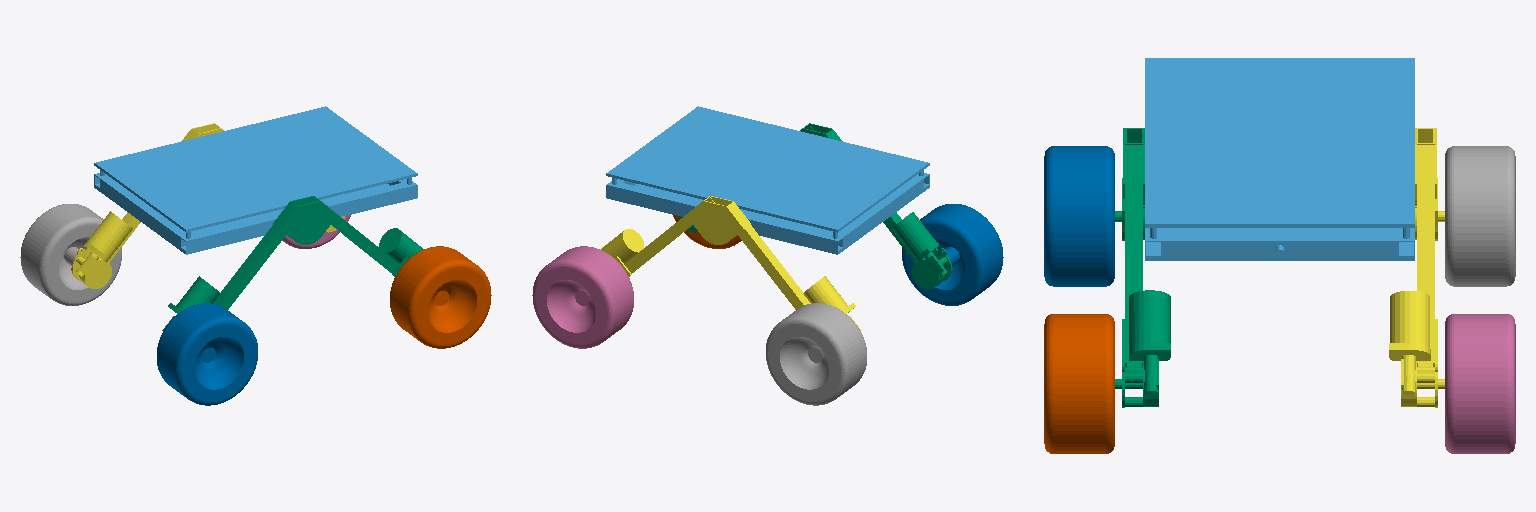
The robot description file, URDF, robot "terryjr":
<?xml version="1.0" ?>
<!-- =================================================================================== -->
<!-- |    This document was autogenerated by xacro from rover.xacro                    | -->
<!-- |    EDITING THIS FILE BY HAND IS NOT RECOMMENDED                                 | -->
<!-- =================================================================================== -->
<robot name="terryjr">
  <link name="base_footprint"/>
  <link name="base_link">
    <inertial>
      <origin rpy="0 0 0" xyz="0.00015786853655922194 -2.501616775090207e-11 0.3198890536270612"/>
      <mass value="24.252446500368254"/>
      <inertia ixx="0.343153" ixy="-0.0" ixz="3.4e-05" iyy="0.69552" iyz="-0.0" izz="1.009039"/>
    </inertial>
    <visual>
      <origin rpy="0 0 0" xyz="0 0 0"/>
      <geometry>
        <mesh filename="package://terryjr_description/meshes/base_link.stl" scale="0.001 0.001 0.001"/>
      </geometry>
    </visual>
    <collision>
      <origin rpy="0 0 0" xyz="0 0 0"/>
      <geometry>
        <mesh filename="package://terryjr_description/meshes/base_link.stl" scale="0.001 0.001 0.001"/>
      </geometry>
    </collision>
  </link>
  <link name="wheel_link_right">
    <inertial>
      <origin rpy="0 0 0" xyz="0.0043643993036362886 -0.0003573906281803263 -0.13933065621645918"/>
      <mass value="7.695397563761951"/>
      <inertia ixx="0.031684" ixy="-0.000248" ixz="-0.000311" iyy="0.4866" iyz="0.001358" izz="0.459707"/>
    </inertial>
    <visual>
      <origin rpy="0 0 0" xyz="0.0 0.192 -0.307734"/>
      <geometry>
        <mesh filename="package://terryjr_description/meshes/wheel_link_right.stl" scale="0.001 0.001 0.001"/>
      </geometry>
    </visual>
    <collision>
      <origin rpy="0 0 0" xyz="0.0 0.192 -0.307734"/>
      <geometry>
        <mesh filename="package://terryjr_description/meshes/wheel_link_right.stl" scale="0.001 0.001 0.001"/>
      </geometry>
    </collision>
  </link>
  <link name="wheel_link_left">
    <inertial>
      <origin rpy="0 0 0" xyz="-0.004364297678518451 0.0003574250436318427 -0.1393305211820717"/>
      <mass value="7.695377181144577"/>
      <inertia ixx="0.031684" ixy="-0.000248" ixz="0.000311" iyy="0.486598" iyz="-0.001358" izz="0.459705"/>
    </inertial>
    <visual>
      <origin rpy="0 0 0" xyz="-0.0 -0.192 -0.307734"/>
      <geometry>
        <mesh filename="package://terryjr_description/meshes/wheel_link_left.stl" scale="0.001 0.001 0.001"/>
      </geometry>
    </visual>
    <collision>
      <origin rpy="0 0 0" xyz="-0.0 -0.192 -0.307734"/>
      <geometry>
        <mesh filename="package://terryjr_description/meshes/wheel_link_left.stl" scale="0.001 0.001 0.001"/>
      </geometry>
    </collision>
  </link>
  <link name="wheel_rear_right">
    <inertial>
      <origin rpy="0 0 0" xyz="-1.0056706983840868e-07 -0.04993895422902905 8.20175889426622e-08"/>
      <mass value="1.4854511848824994"/>
      <inertia ixx="0.005903" ixy="0.0" ixz="0.0" iyy="0.009082" iyz="-0.0" izz="0.005903"/>
    </inertial>
    <visual>
      <origin rpy="0 0 0" xyz="0.28198 0.235 -0.1"/>
      <geometry>
        <mesh filename="package://terryjr_description/meshes/wheel_rear_right.stl" scale="0.001 0.001 0.001"/>
      </geometry>
    </visual>
    <collision>
      <origin rpy="0 0 0" xyz="0.28198 0.235 -0.1"/>
      <geometry>
        <mesh filename="package://terryjr_description/meshes/wheel_rear_right.stl" scale="0.001 0.001 0.001"/>
      </geometry>
    </collision>
  </link>
  <link name="wheel_front_right">
    <inertial>
      <origin rpy="0 0 0" xyz="1.032402093259499e-07 -0.049938954229037436 8.201759083004134e-08"/>
      <mass value="1.4854511848824936"/>
      <inertia ixx="0.005903" ixy="0.0" ixz="0.0" iyy="0.009082" iyz="-0.0" izz="0.005903"/>
    </inertial>
    <visual>
      <origin rpy="0 0 0" xyz="-0.28198 0.235 -0.1"/>
      <geometry>
        <mesh filename="package://terryjr_description/meshes/wheel_front_right.stl" scale="0.001 0.001 0.001"/>
      </geometry>
    </visual>
    <collision>
      <origin rpy="0 0 0" xyz="-0.28198 0.235 -0.1"/>
      <geometry>
        <mesh filename="package://terryjr_description/meshes/wheel_front_right.stl" scale="0.001 0.001 0.001"/>
      </geometry>
    </collision>
  </link>
  <link name="wheel_front_left">
    <inertial>
      <origin rpy="0 0 0" xyz="9.809747802957958e-08 0.049938954428228266 3.00908895994878e-08"/>
      <mass value="1.485455971405251"/>
      <inertia ixx="0.005903" ixy="-0.0" ixz="0.0" iyy="0.009082" iyz="-0.0" izz="0.005903"/>
    </inertial>
    <visual>
      <origin rpy="0 0 0" xyz="-0.28198 -0.235 -0.1"/>
      <geometry>
        <mesh filename="package://terryjr_description/meshes/wheel_front_left.stl" scale="0.001 0.001 0.001"/>
      </geometry>
    </visual>
    <collision>
      <origin rpy="0 0 0" xyz="-0.28198 -0.235 -0.1"/>
      <geometry>
        <mesh filename="package://terryjr_description/meshes/wheel_front_left.stl" scale="0.001 0.001 0.001"/>
      </geometry>
    </collision>
  </link>
  <link name="wheel_rear_left">
    <inertial>
      <origin rpy="0 0 0" xyz="-1.0570980280011355e-07 0.049938954428236815 3.009089151462252e-08"/>
      <mass value="1.4854559714052498"/>
      <inertia ixx="0.005903" ixy="-0.0" ixz="0.0" iyy="0.009082" iyz="-0.0" izz="0.005903"/>
    </inertial>
    <visual>
      <origin rpy="0 0 0" xyz="0.28198 -0.235 -0.1"/>
      <geometry>
        <mesh filename="package://terryjr_description/meshes/wheel_rear_left.stl" scale="0.001 0.001 0.001"/>
      </geometry>
    </visual>
    <collision>
      <origin rpy="0 0 0" xyz="0.28198 -0.235 -0.1"/>
      <geometry>
        <mesh filename="package://terryjr_description/meshes/wheel_rear_left.stl" scale="0.001 0.001 0.001"/>
      </geometry>
    </collision>
  </link>
  <!-- <link name="mid_balance_link">
  <inertial>
    <origin xyz="0.009750000000000147 -4.243624006654342e-15 -9.992007221626409e-16" rpy="0 0 0"/>
    <mass value="1.4059410622323745"/>
    <inertia ixx="0.025958" iyy="8.8e-05" izz="0.025959" ixy="0.0" iyz="0.0" ixz="0.0"/>
  </inertial>

  <visual>
    <origin xyz="-0.295 0.0 -0.310934" rpy="0 0 0"/>
    <geometry>
      <mesh filename="package://terryjr_description/meshes/mid_balance_link.stl" scale="0.001 0.001 0.001"/>
    </geometry>
  </visual>

  <collision>
    <origin xyz="-0.295 0.0 -0.310934" rpy="0 0 0"/>
    <geometry>
      <mesh filename="package://terryjr_description/meshes/mid_balance_link.stl" scale="0.001 0.001 0.001"/>
    </geometry>
  </collision>
</link>

<link name="right_balance_link">
  <inertial>
    <origin xyz="0.02062914851910752 0.00010564044648722626 -0.07732214415581778" rpy="0 0 0"/>
    <mass value="0.1986031847835859"/>
    <inertia ixx="0.000589" iyy="0.000615" izz="3e-05" ixy="0.0" iyz="2e-06" ixz="-0.000109"/>
  </inertial>

  <visual>
    <origin xyz="-0.295 0.220009 -0.310934" rpy="0 0 0"/>
    <geometry>
      <mesh filename="package://terryjr_description/meshes/right_balance_link.stl" scale="0.001 0.001 0.001"/>
    </geometry>
  </visual>

  <collision>
    <origin xyz="-0.295 0.220009 -0.310934" rpy="0 0 0"/>
    <geometry>
      <mesh filename="package://terryjr_description/meshes/right_balance_link.stl" scale="0.001 0.001 0.001"/>
    </geometry>
  </collision>
</link>

<link name="left_balance_link">
  <inertial>
    <origin xyz="0.02062904918787567 -0.00010573799925786553 -0.07732286028099009" rpy="0 0 0"/>
    <mass value="0.1986022250723333"/>
    <inertia ixx="0.000589" iyy="0.000615" izz="3e-05" ixy="-0.0" iyz="-2e-06" ixz="-0.000109"/>
  </inertial>

  <visual>
    <origin xyz="-0.295 -0.220009 -0.310934" rpy="0 0 0"/>
    <geometry>
      <mesh filename="package://terryjr_description/meshes/left_balance_link.stl" scale="0.001 0.001 0.001"/>
    </geometry>
  </visual>

  <collision>
    <origin xyz="-0.295 -0.220009 -0.310934" rpy="0 0 0"/>
    <geometry>
      <mesh filename="package://terryjr_description/meshes/left_balance_link.stl" scale="0.001 0.001 0.001"/>
    </geometry>
  </collision>
</link> -->
  <joint name="base_joint" type="fixed">
    <parent link="base_footprint"/>
    <child link="base_link"/>
    <origin rpy="0 0 0" xyz="0.0 0.0 0.0"/>
  </joint>
  <joint name="right_wheel_link_to_base_link_joint" type="fixed">
    <origin rpy="0 0 0" xyz="0.0 -0.192 0.307734"/>
    <parent link="base_link"/>
    <child link="wheel_link_right"/>
    <axis xyz="-0.0 -1.0 0.0"/>
  </joint>
  <joint name="left_wheel_link_to_base_link_joint" type="fixed">
    <origin rpy="0 0 0" xyz="0.0 0.192 0.307734"/>
    <parent link="base_link"/>
    <child link="wheel_link_left"/>
    <axis xyz="0.0 1.0 0.0"/>
  </joint>
  <joint name="rear_right_wheel_to_wheel_link_joint" type="continuous">
    <origin rpy="0 0 0" xyz="-0.28198 -0.043 -0.207734"/>
    <parent link="wheel_link_right"/>
    <child link="wheel_rear_right"/>
    <axis xyz="-0.0 -1.0 -0.0"/>
  </joint>
  <joint name="front_right_wheel_to_wheel_link_joint" type="continuous">
    <origin rpy="0 0 0" xyz="0.28198 -0.043 -0.207734"/>
    <parent link="wheel_link_right"/>
    <child link="wheel_front_right"/>
    <axis xyz="-0.0 -1.0 -0.0"/>
  </joint>
  <joint name="front_left_wheel_to_wheel_link_joint" type="continuous">
    <origin rpy="0 0 0" xyz="0.28198 0.043 -0.207734"/>
    <parent link="wheel_link_left"/>
    <child link="wheel_front_left"/>
    <axis xyz="0.0 1.0 -0.0"/>
  </joint>
  <joint name="rear_left_wheel_to_wheel_link_joint" type="continuous">
    <origin rpy="0 0 0" xyz="-0.28198 0.043 -0.207734"/>
    <parent link="wheel_link_left"/>
    <child link="wheel_rear_left"/>
    <axis xyz="0.0 1.0 -0.0"/>
  </joint>
  <!-- <joint name="mid_balance_link_to_base_link_joint" type="fixed">
  <origin xyz="0.295 0.0 0.310934" rpy="0 0 0"/>
  <parent link="base_link"/>
  <child link="mid_balance_link"/>
  <axis xyz="1.0 0.0 -0.0"/>
</joint>

<joint name="right_balance_link_to_mid_balance_link_joint" type="fixed">
  <origin xyz="0.0 -0.220009 0.0" rpy="0 0 0"/>
  <parent link="mid_balance_link"/>
  <child link="right_balance_link"/>
  <axis xyz="1.0 0.0 -0.0"/>
</joint>

<joint name="left_balance_link_to_mid_balance_link_joint" type="fixed">
  <origin xyz="0.0 0.220009 0.0" rpy="0 0 0"/>
  <parent link="mid_balance_link"/>
  <child link="left_balance_link"/>
  <axis xyz="1.0 0.0 -0.0"/>
</joint> -->
  <!-- <gazebo>
  <joint name="right_balance_link_to_right_wheel_link_joint" type="continuous">
    <pose>0.0 0.0 0.0 0 0 0</pose>
    <parent>right_wheel_link</parent>
    <child>right_balance_link</child>
    <axis>
      <xyz>0.0 1.0 -0.0</xyz>
    </axis>
  </joint>
</gazebo>

<gazebo>
  <joint name="left_balance_link_to_left_wheel_link_joint" type="continuous">
    <pose>0.0 0.0 0.0 0 0 0</pose>
    <parent>left_wheel_link</parent>
    <child>left_balance_link</child>
    <axis>
      <xyz>0.0 1.0 -0.0</xyz>
    </axis>
  </joint>
</gazebo> -->
  <!-- <xacro:include filename="$(find terryjr_description)/urdf/transmissions.xacro" /> -->
  <!-- <xacro:include filename="$(find terryjr_description)/urdf/gazebo.xacro" /> -->
</robot>

--- What the picture shows (computed from the rendered views, not written in the file) ---
Views: 3 orthographic renders of the robot side by side, from view 1: azimuth 30°, elevation 25°; view 2: azimuth 150°, elevation 25°; view 3: azimuth 270°, elevation 25°.
Robot: terryjr — 8 links, 7 joints (4 continuous, 3 fixed); root link base_footprint; default pose: every joint at zero.
Visible links, largest first — view 1: base_link, wheel_front_right, wheel_rear_right, wheel_link_right, wheel_rear_left, wheel_link_left; view 2: base_link, wheel_front_left, wheel_rear_left, wheel_link_left, wheel_rear_right, wheel_link_right; view 3: base_link, wheel_rear_right, wheel_rear_left, wheel_front_right, wheel_front_left, wheel_link_right, wheel_link_left.
Link boxes in pixels (bbox=[...]): base_link: bbox=[94, 106, 417, 254]; wheel_front_right: bbox=[390, 246, 491, 348]; wheel_rear_right: bbox=[157, 303, 257, 405]; wheel_link_right: bbox=[162, 196, 423, 330]; wheel_rear_left: bbox=[20, 204, 121, 305]; wheel_link_left: bbox=[71, 123, 344, 288]; base_link: bbox=[606, 106, 929, 254]; wheel_front_left: bbox=[532, 246, 633, 348]; wheel_rear_left: bbox=[766, 303, 866, 405]; wheel_link_left: bbox=[600, 196, 861, 330]; wheel_rear_right: bbox=[902, 204, 1003, 305]; wheel_link_right: bbox=[679, 123, 952, 288]; base_link: bbox=[1145, 58, 1414, 260]; wheel_rear_right: bbox=[1044, 146, 1114, 286]; wheel_rear_left: bbox=[1445, 146, 1515, 286]; wheel_front_right: bbox=[1044, 314, 1114, 453]; wheel_front_left: bbox=[1445, 314, 1515, 453]; wheel_link_right: bbox=[1115, 128, 1170, 407]; wheel_link_left: bbox=[1389, 128, 1444, 407].
Size in the robot's own frame: 0.7639 by 0.67 by 0.3572 metres.
7 mesh visuals loaded from 7 distinct referenced files (7 binary STL).
